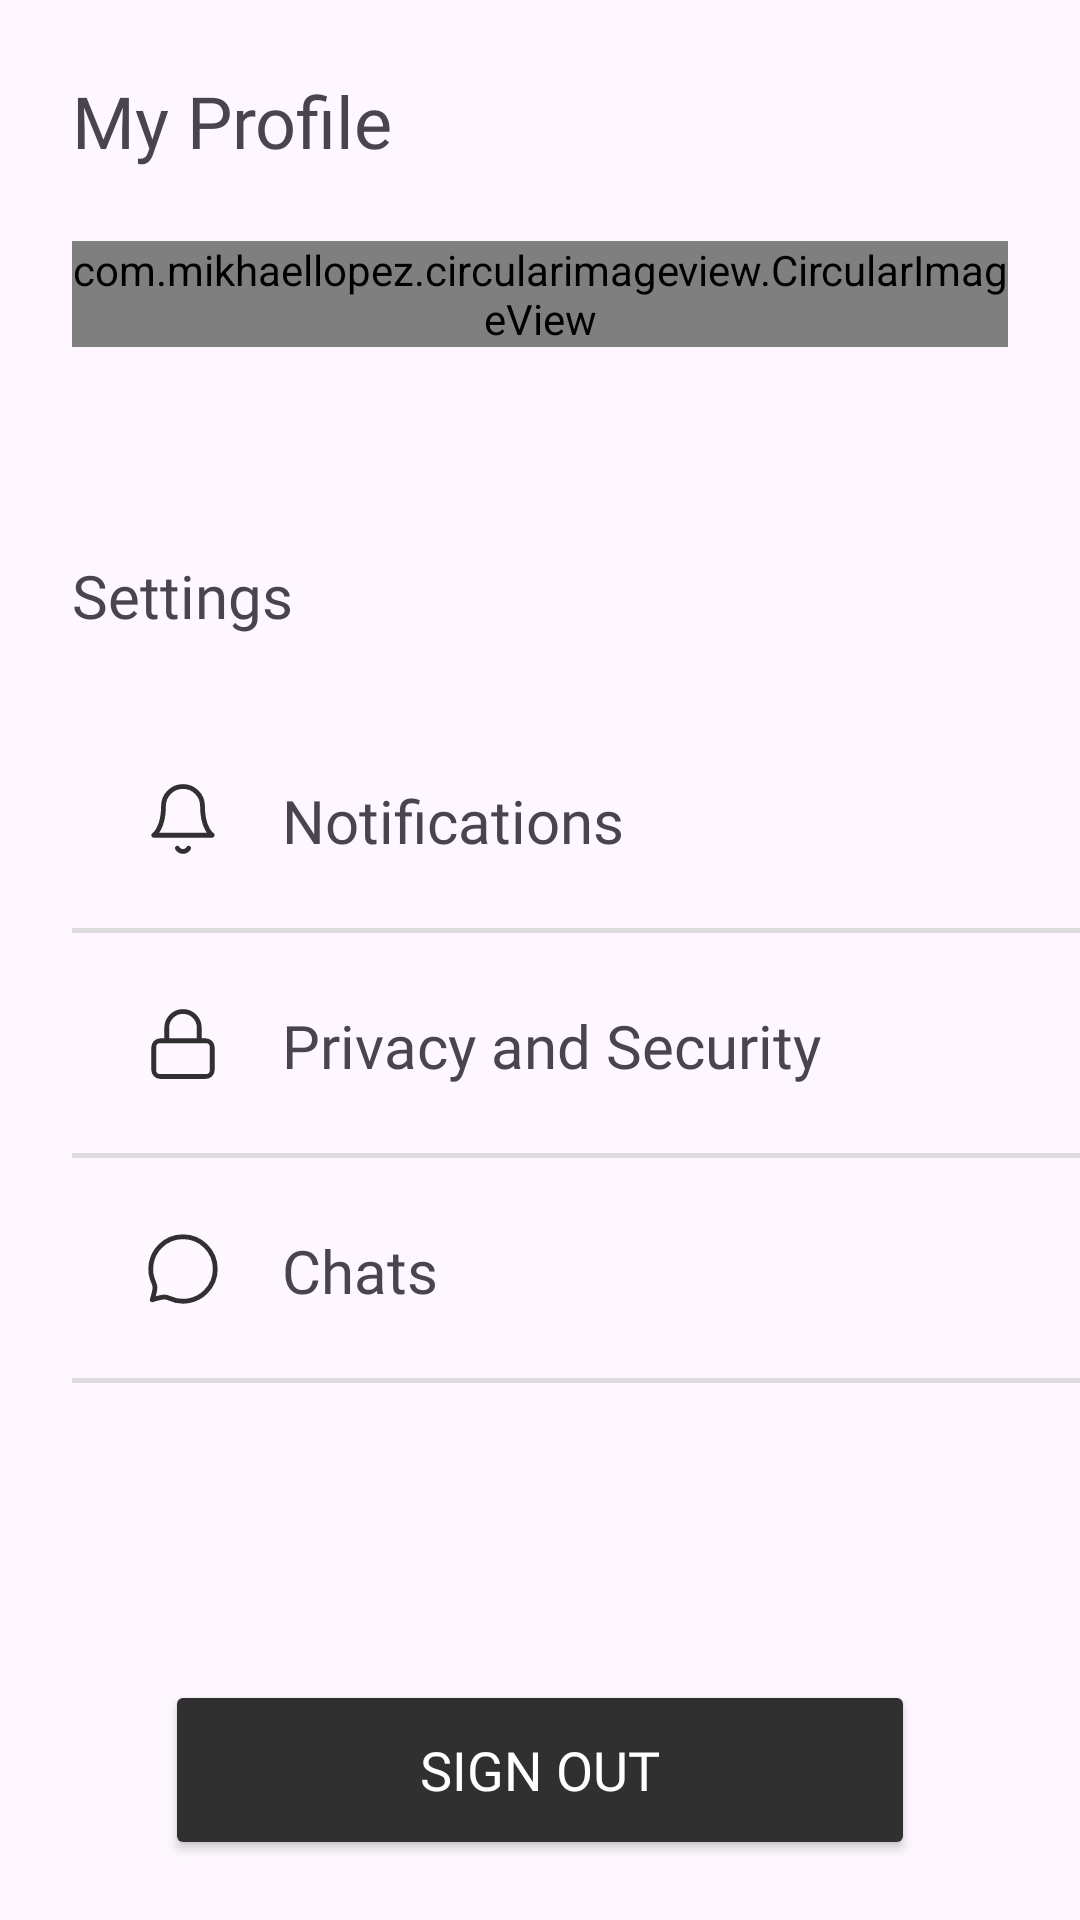

Screen size 1080px×1920px. Icon name, then its center in pixels as [x,y]:
bell: [183,819]
lock: [183,1044]
message: [183,1269]
